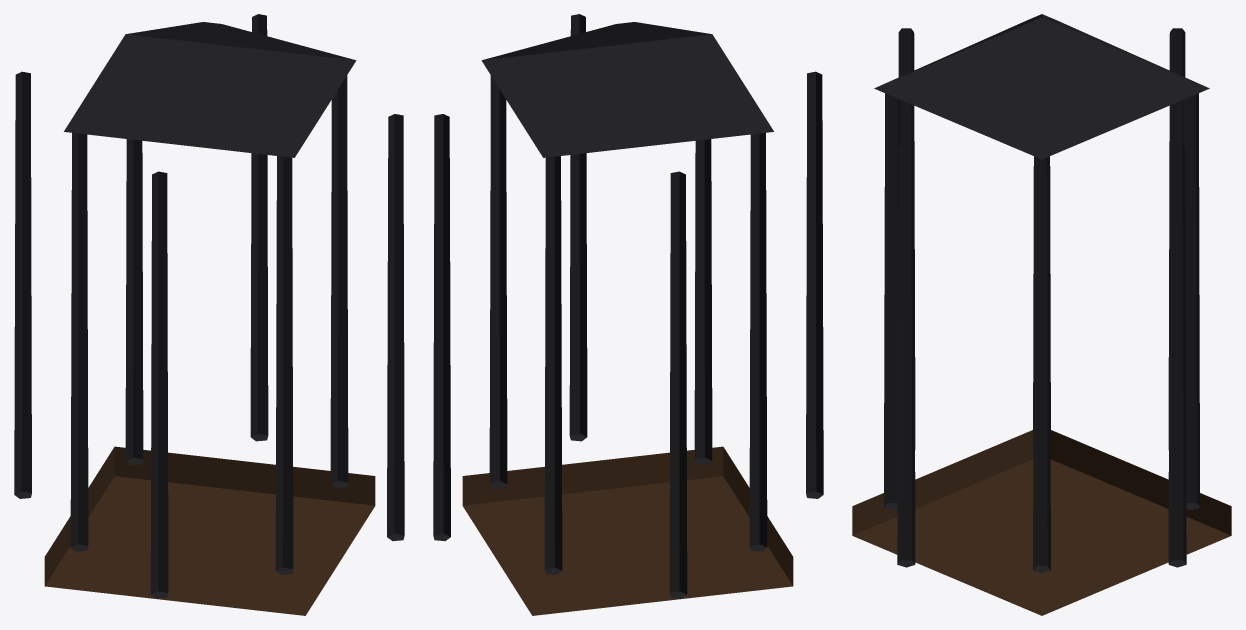
The model's file is cage.glb.
The picture shows the model from 3 angles, left to right: view 1: azimuth 30°, elevation 25°; view 2: azimuth 150°, elevation 25°; view 3: azimuth 270°, elevation 25°; orthographic projection.
Visible parts, largest first — view 1: cage; view 2: cage; view 3: cage.
Part boxes in pixels (x1,y1,x2,y2): cage: [14, 14, 404, 615]; cage: [433, 14, 823, 615]; cage: [852, 14, 1231, 615].
Size of the model in its own units: 1.4 by 2.1 by 1.4.
